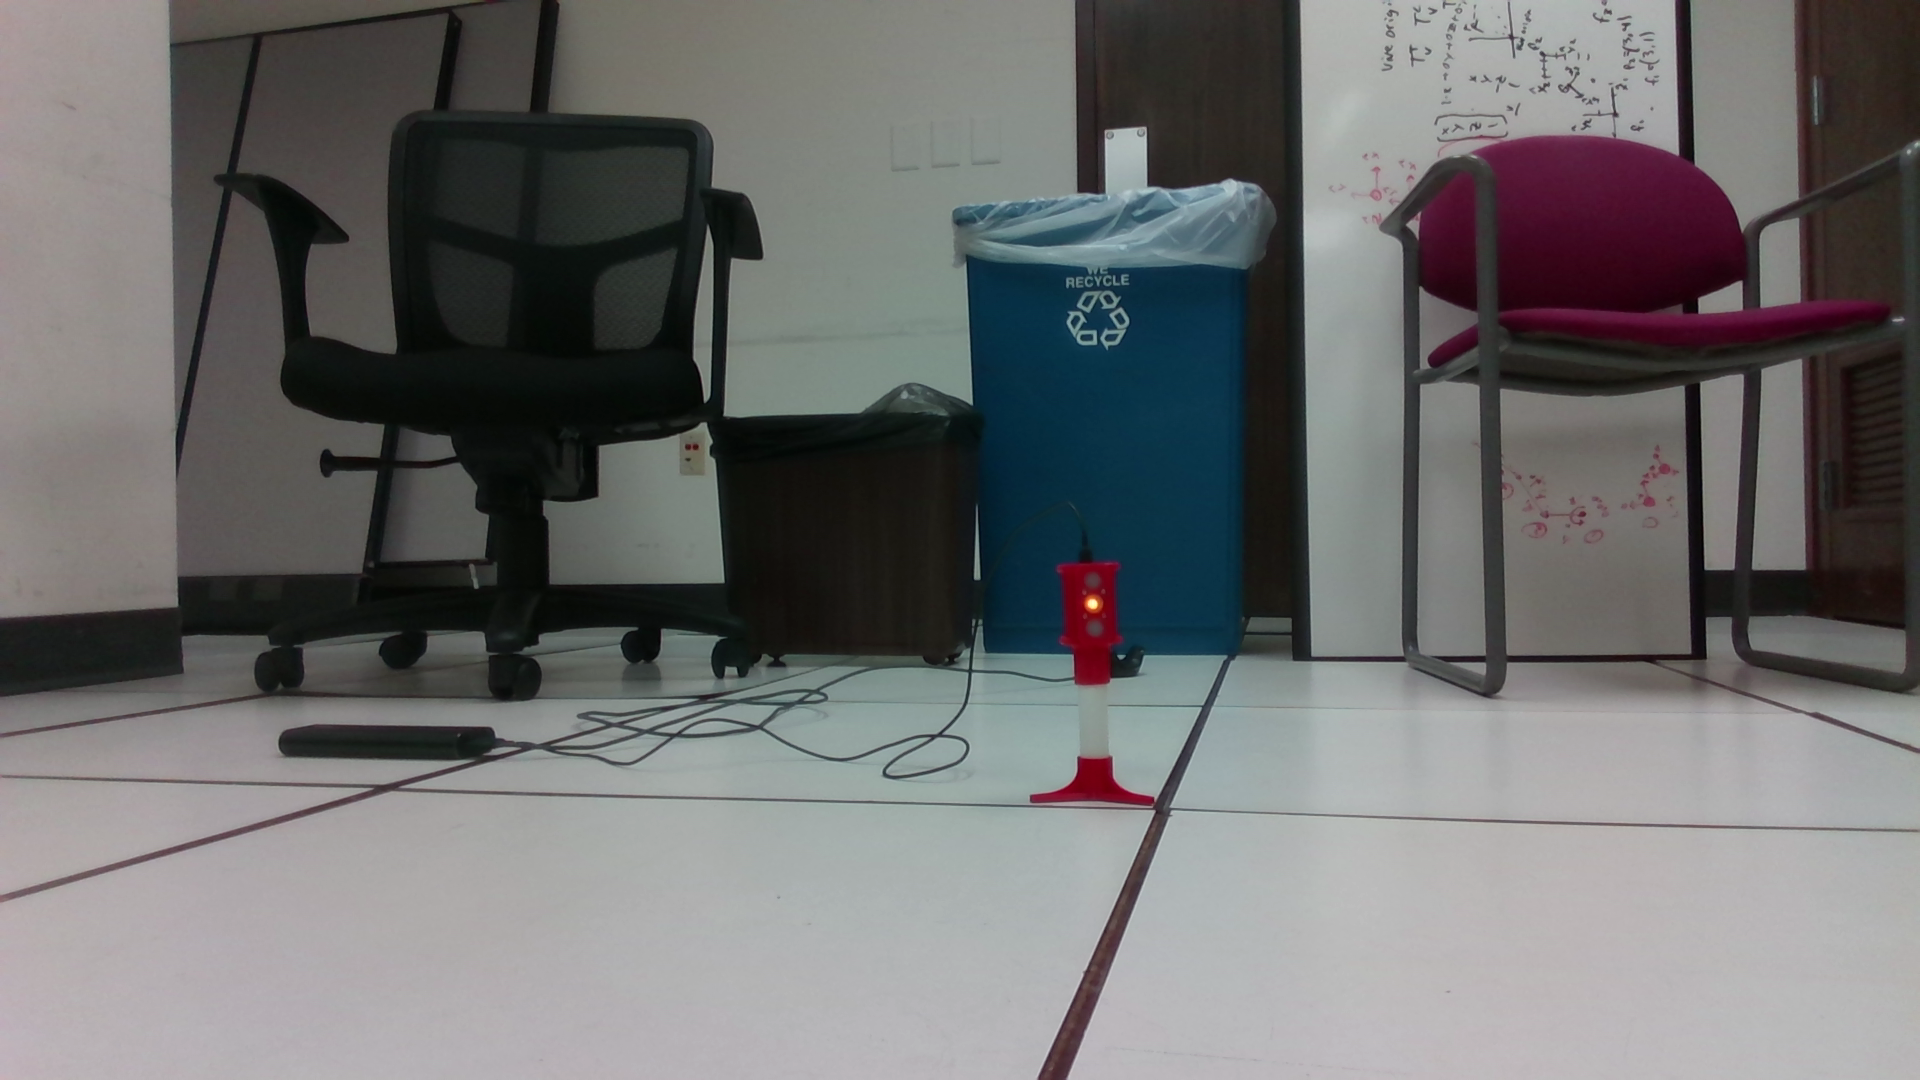stoplight: (1059, 556, 1122, 694)
